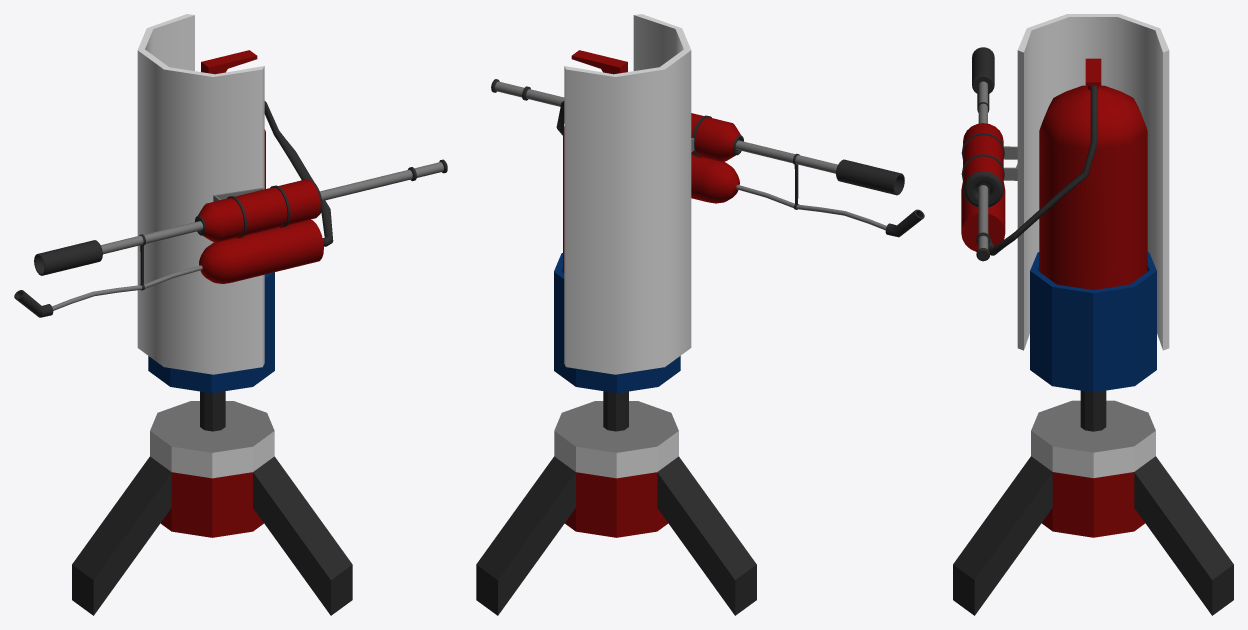
Rendered from FlameTrap.fbx.
3 renders of one model, left to right at view 1: azimuth 30°, elevation 25°; view 2: azimuth 150°, elevation 25°; view 3: azimuth 270°, elevation 25°, orthographic.
Parts seen in each view (by area): view 1: pCylinder8, polySurface5; view 2: pCylinder8, polySurface5; view 3: pCylinder8, polySurface5.
Boxes of the visible parts, box(x1,y1,x2,y2) form: pCylinder8: box(14, 14, 447, 431); polySurface5: box(72, 401, 352, 615); pCylinder8: box(491, 14, 924, 431); polySurface5: box(476, 401, 756, 615); pCylinder8: box(961, 14, 1169, 431); polySurface5: box(953, 400, 1233, 615).
Bounding box in the file's own units: 7.84 × 9.27 × 4.43.
